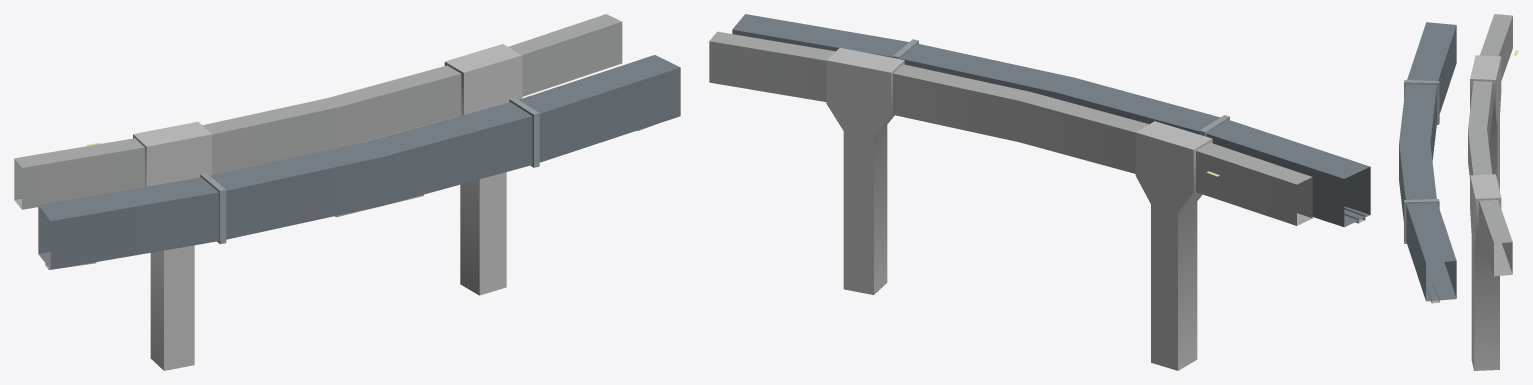
File: MCM_2W_001.fbx
3 views of the same model, side by side, from view 1: azimuth 30°, elevation 25°; view 2: azimuth 150°, elevation 25°; view 3: azimuth 270°, elevation 25° (orthographic). The views are drawn at different scales.
Parts seen in each view (by area): view 1: MCM_2W_001; view 2: MCM_2W_001; view 3: MCM_2W_001.
Boxes of the visible parts, x1,y1,x2,y2 form: MCM_2W_001: [14, 14, 680, 370]; MCM_2W_001: [709, 14, 1370, 370]; MCM_2W_001: [1399, 14, 1518, 370].
Bounding box in the file's own units: 14.73 × 3.09 × 5.08.
Materials: 3 (3 with a texture image).
